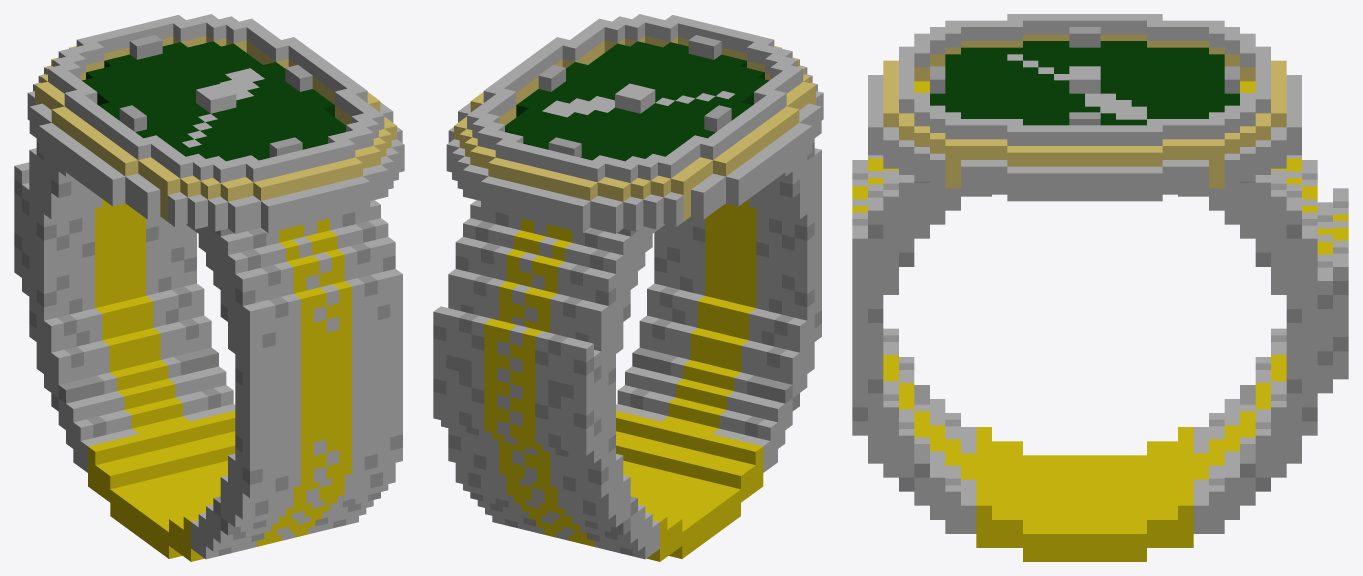
3 views of the same model, side by side, from view 1: azimuth 30°, elevation 25°; view 2: azimuth 150°, elevation 25°; view 3: azimuth 270°, elevation 25° (orthographic). The views are drawn at different scales.
Bounding box in the file's own units: 1.1 × 1.6 × 1.6.
